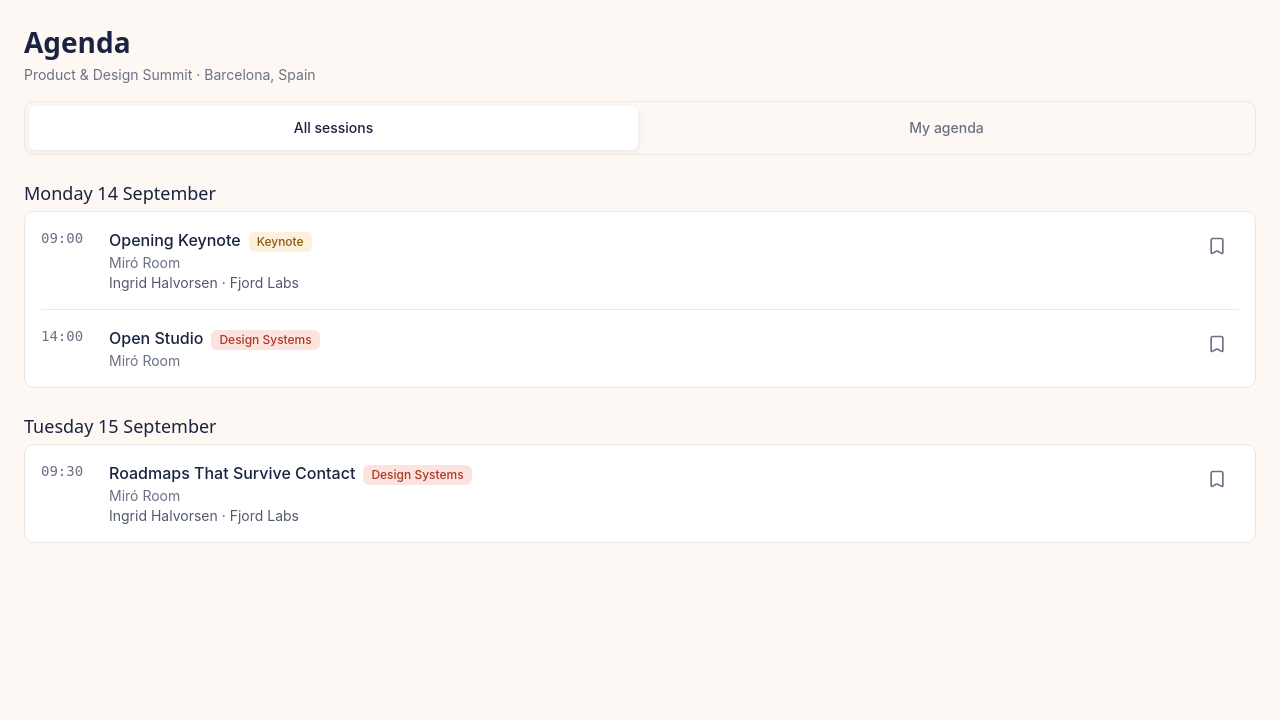
Test: clearing a note › tells the attendee they are approaching the limit BEFORE they hit it (FR-213)
Step 1. Click the link "Opening Keynote" → x=175, y=240, box [109,230,241,250]
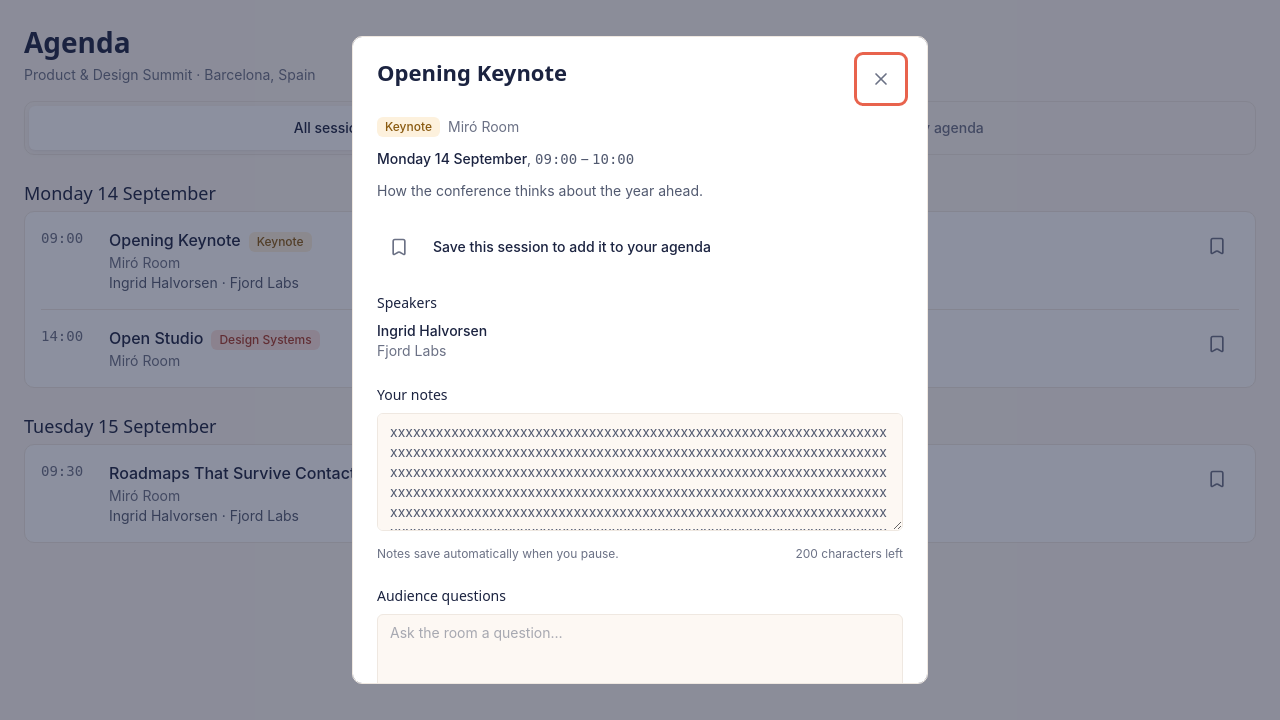
Expected: the heading "Opening Keynote" is shown, [377,57,567,88]
Expected: the text "200 characters left" is shown, [796,546,903,562]
